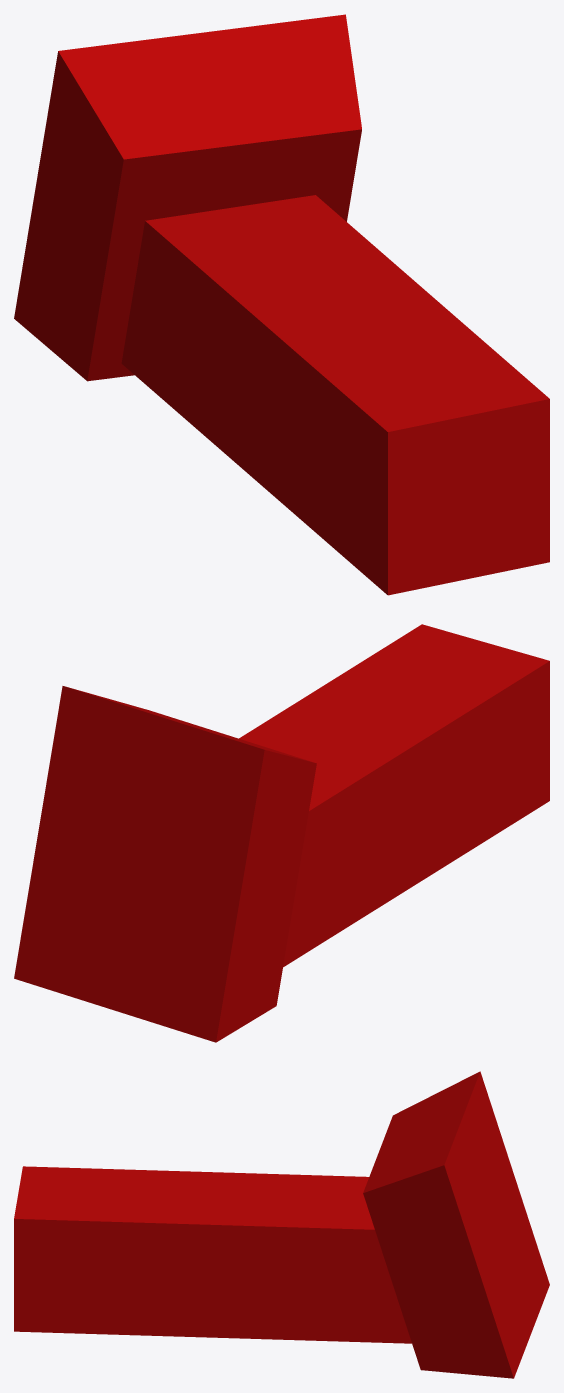
The model's file is SM_Bld_Ruins_Column_03_Collision.gltf.
3 renders of one model, top to bottom at view 1: azimuth 30°, elevation 25°; view 2: azimuth 150°, elevation 25°; view 3: azimuth 270°, elevation 25°, orthographic. The views are drawn at different scales.
Visible parts, largest first — view 1: SM_Bld_Ruins_Column_03_Collision; view 2: SM_Bld_Ruins_Column_03_Collision; view 3: SM_Bld_Ruins_Column_03_Collision.
Boxes of the visible parts, bbox=[...] form: SM_Bld_Ruins_Column_03_Collision: bbox=[14, 14, 549, 595]; SM_Bld_Ruins_Column_03_Collision: bbox=[14, 624, 549, 1042]; SM_Bld_Ruins_Column_03_Collision: bbox=[14, 1071, 549, 1378].
Size of the model in its own units: 1.64 by 1.88 by 4.08.
